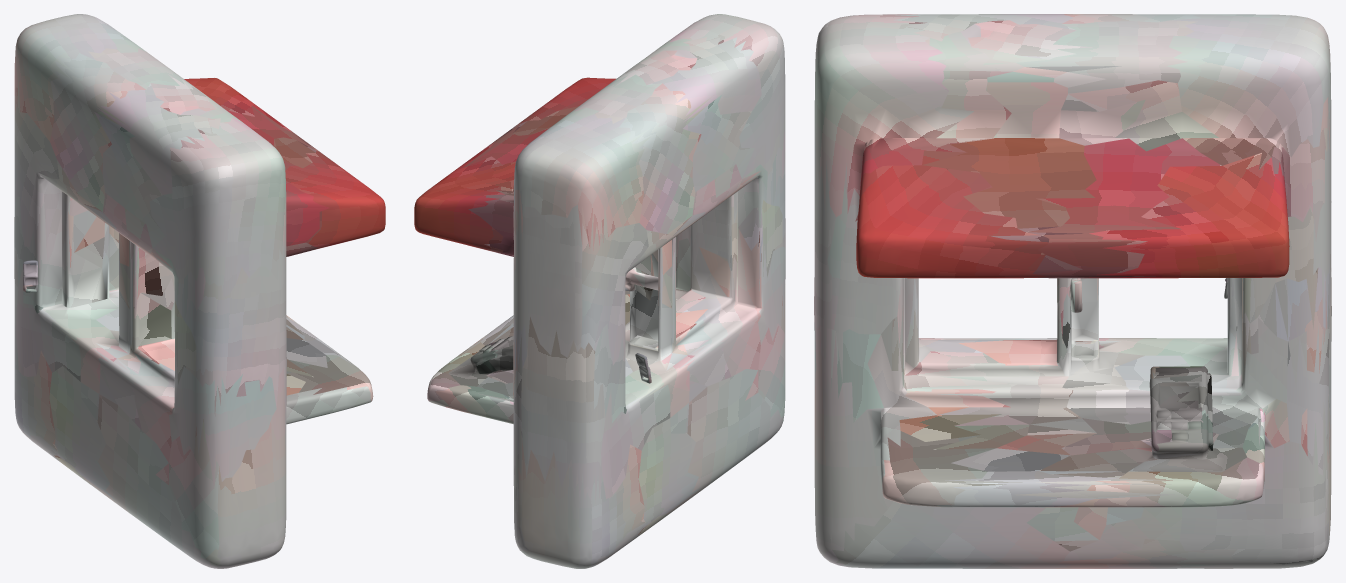
Rendered from KR_사물_s1_sm_drive_thru_counter.glb.
3 views of the same model, side by side, from view 1: azimuth 30°, elevation 25°; view 2: azimuth 150°, elevation 25°; view 3: azimuth 270°, elevation 25° (orthographic). The views are drawn at different scales.
Parts seen in each view (by area): view 1: tripo_node_39848fd9-e06d-4920-985a-4195969e3fb1; view 2: tripo_node_39848fd9-e06d-4920-985a-4195969e3fb1; view 3: tripo_node_39848fd9-e06d-4920-985a-4195969e3fb1.
Boxes of the visible parts, box(x1,y1,x2,y2) form: tripo_node_39848fd9-e06d-4920-985a-4195969e3fb1: box(14, 14, 385, 568); tripo_node_39848fd9-e06d-4920-985a-4195969e3fb1: box(414, 14, 785, 568); tripo_node_39848fd9-e06d-4920-985a-4195969e3fb1: box(814, 14, 1331, 568).
Size of the model in its own units: 0.5661 by 1 by 0.8957.
Materials: 1 (1 with a texture image).
